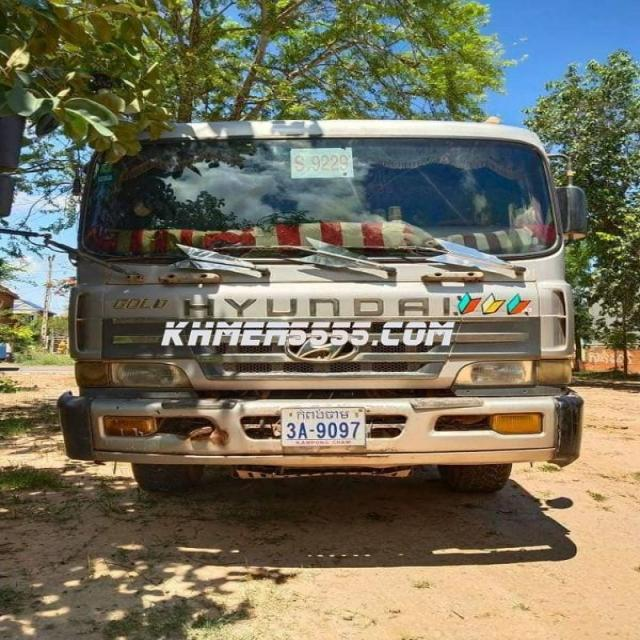Kampong_Cham: (297, 410, 349, 421)
